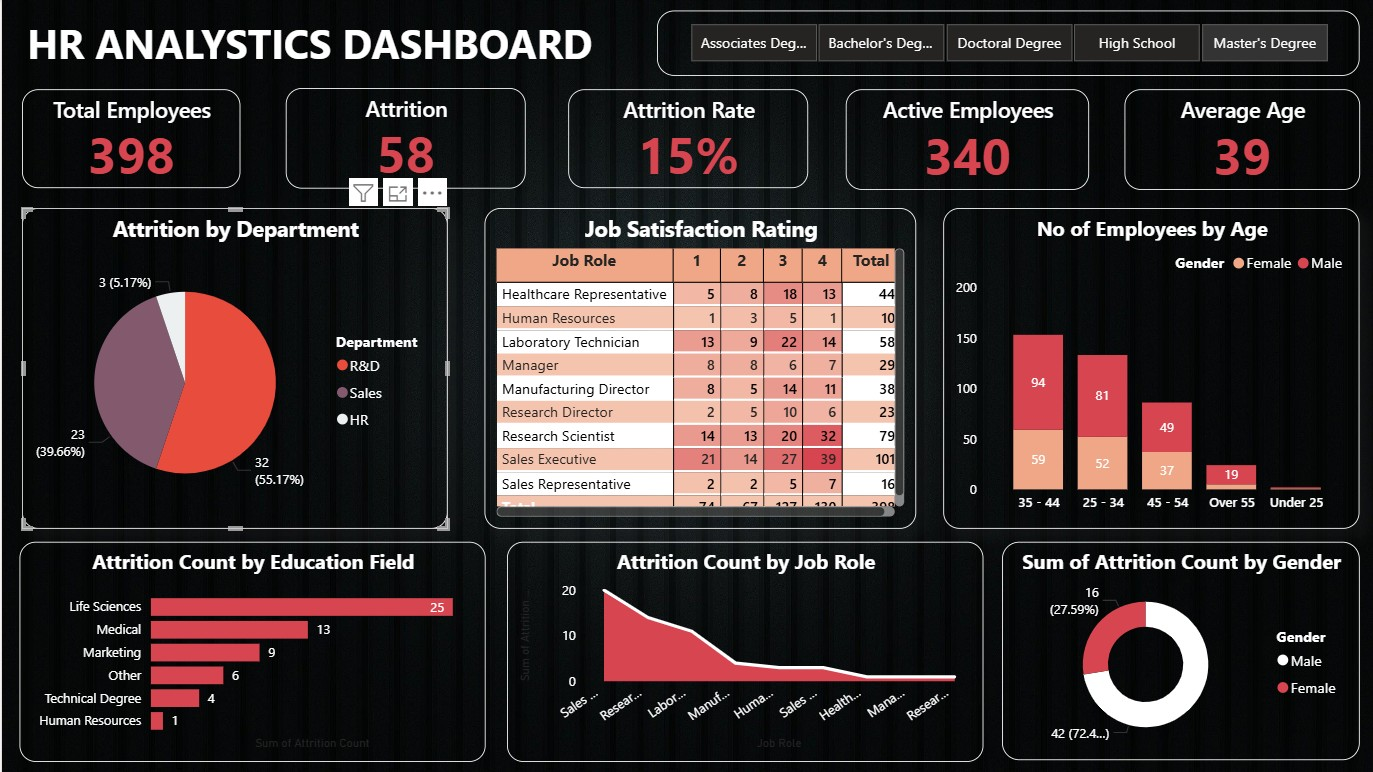

The page's visual inventory and layout, read from the dashboard file:
{"tool":"powerbi","page":{"name":"Page 1","canvas":[1280,720],"ordinal":0},"visuals":[{"type":"card","title":"Total Employees","fields":{"Values":["Sum(HR data.Employee Count)"]},"box":[18.7,85,203,92.2],"z":0},{"type":"card","title":"Attrition","fields":{"Values":["Sum(HR data.Attrition Count)"]},"box":[263.5,83.5,223.2,93.6],"z":1000},{"type":"card","title":"Attrition Rate","fields":{"Values":["HR data.Attrition Rate"]},"box":[527,85,223.2,92.2],"z":2000},{"type":"card","title":"Average Age","fields":{"Values":["Avg(HR data.Age)"]},"box":[1044,85,218.9,93.6],"z":3000},{"type":"card","title":"Active Employees","fields":{"Values":["HR data.Active Employees"]},"box":[784.8,85,226.1,93.6],"z":4000},{"type":"pieChart","title":" Attrition by Department","fields":{"Category":["HR data.Department"],"Y":["Sum(HR data.Attrition Count)"]},"box":[18.7,195.8,396,298.1],"z":5000},{"type":"columnChart","title":"No of Employees  by Age ","fields":{"Series":["HR data.Gender"],"Category":["HR data.CF_age band"],"Y":["Sum(HR data.Employee Count)"]},"box":[875.5,195.8,387.4,298.1],"z":6000},{"type":"pivotTable","title":"Job Satisfaction Rating","fields":{"Rows":["HR data.Job Role"],"Columns":["HR data.Job Satisfaction"],"Values":["Sum(HR data.Employee Count)"]},"box":[449.3,195.8,401.8,298.1],"z":7000},{"type":"barChart","title":"Attrition Count by Education Field","fields":{"Category":["HR data.Education Field"],"Y":["Sum(HR data.Attrition Count)"]},"box":[15.8,505.4,433.4,204.5],"z":8000},{"type":"stackedAreaChart","title":"Attrition Count by Job Role","fields":{"Category":["HR data.Job Role"],"Y":["Sum(HR data.Attrition Count)"]},"box":[469.4,505.4,443.5,204.5],"z":9000},{"type":"donutChart","fields":{"Category":["HR data.Gender"],"Y":["Sum(HR data.Attrition Count)"]},"box":[930.2,505.4,332.6,203],"z":10000},{"type":"textbox","box":[18.7,11.5,590.4,60.5],"z":11000},{"type":"slicer","fields":{"Values":["HR data.Education"]},"box":[609.1,11.5,653.8,60.5],"z":12000}]}

Visuals, with their boxes in screenshot pixels (x1, y1, x2, y2), scaled from the page's 1280x720 canvas onto the 1373x772 screenshot:
"Total Employees" card: select_region(20, 91, 238, 190)
"Attrition" card: select_region(283, 90, 522, 190)
"Attrition Rate" card: select_region(565, 91, 805, 190)
"Average Age" card: select_region(1120, 91, 1355, 191)
"Active Employees" card: select_region(842, 91, 1084, 191)
" Attrition by Department" pieChart: select_region(20, 210, 445, 530)
"No of Employees  by Age " columnChart: select_region(939, 210, 1355, 530)
"Job Satisfaction Rating" pivotTable: select_region(482, 210, 913, 530)
"Attrition Count by Education Field" barChart: select_region(17, 542, 482, 761)
"Attrition Count by Job Role" stackedAreaChart: select_region(504, 542, 979, 761)
donutChart - HR data.Gender x Sum(HR data.Attrition Count): select_region(998, 542, 1355, 760)
textbox: select_region(20, 12, 653, 77)
slicer - HR data.Education: select_region(653, 12, 1355, 77)
